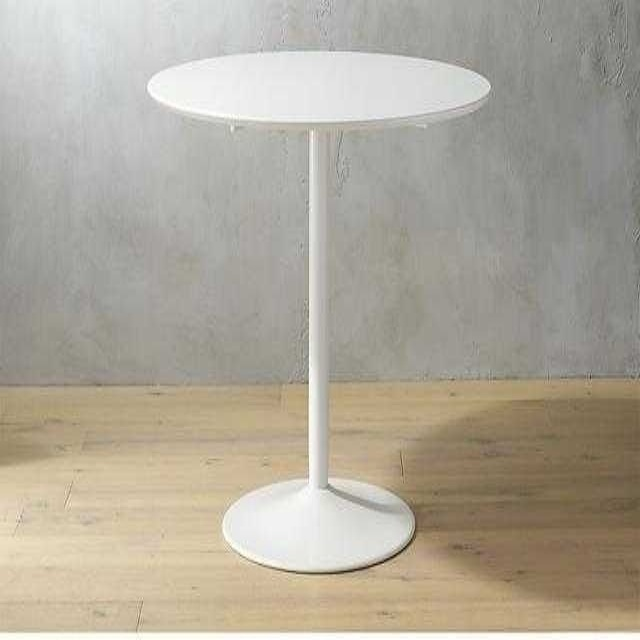obstacle: (148, 52, 489, 571)
